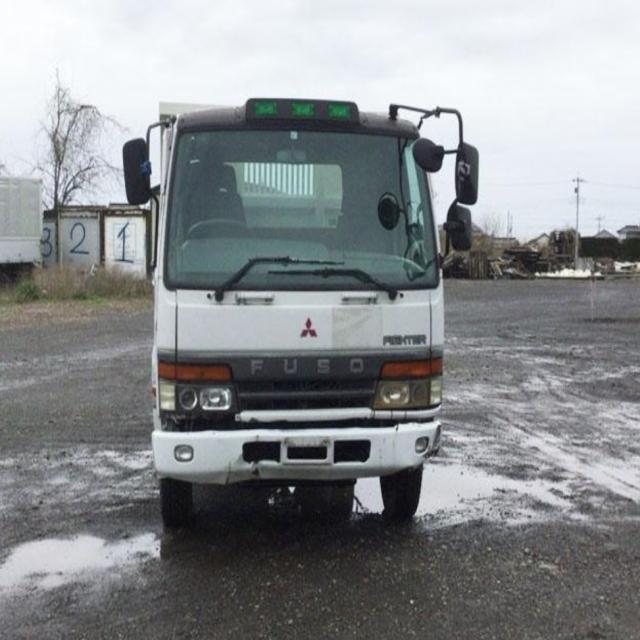truck: (119, 93, 476, 525)
